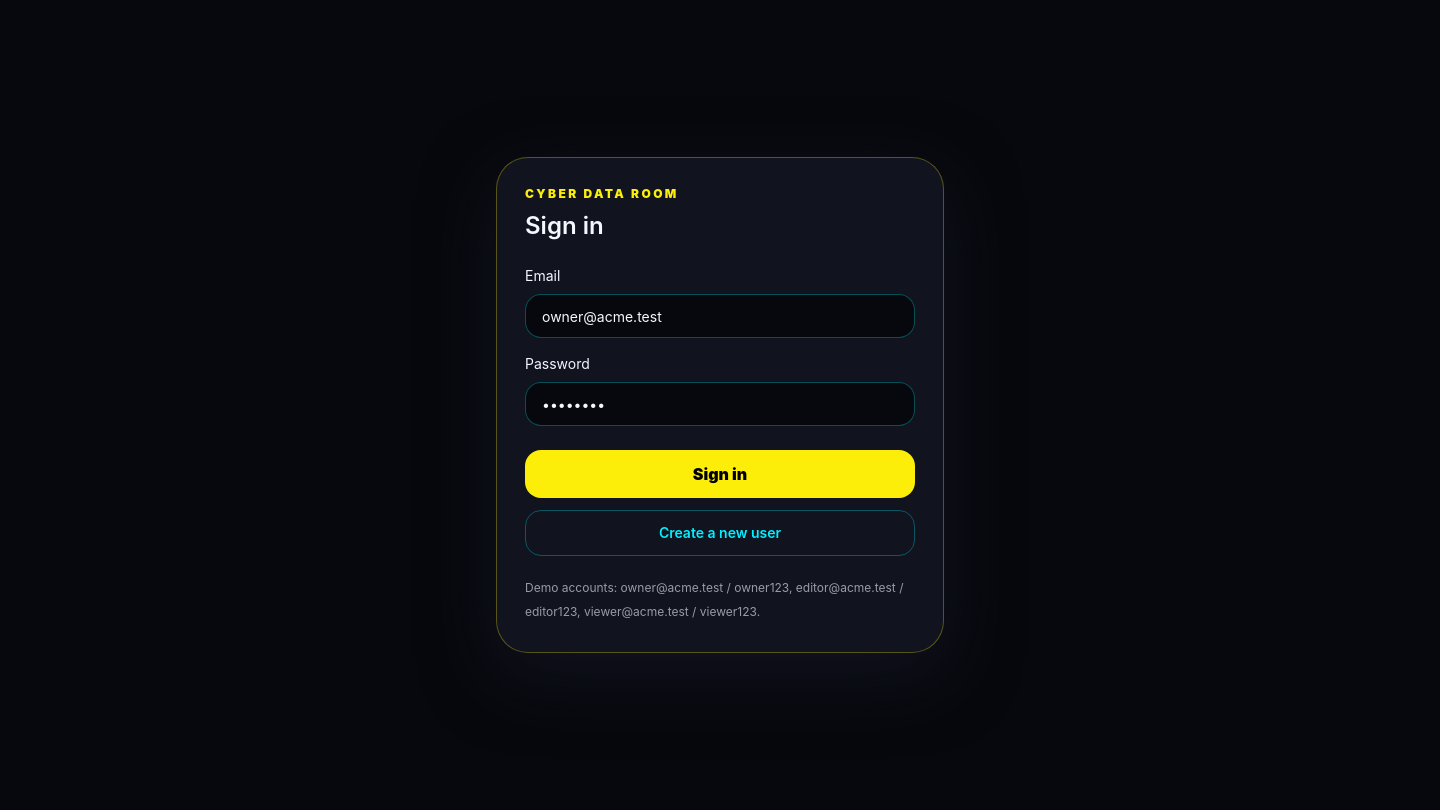
it: App › opens access management from the selected data room panel
Step 1. Click the button "Sign in" → (720, 474), box [525,450,915,498]
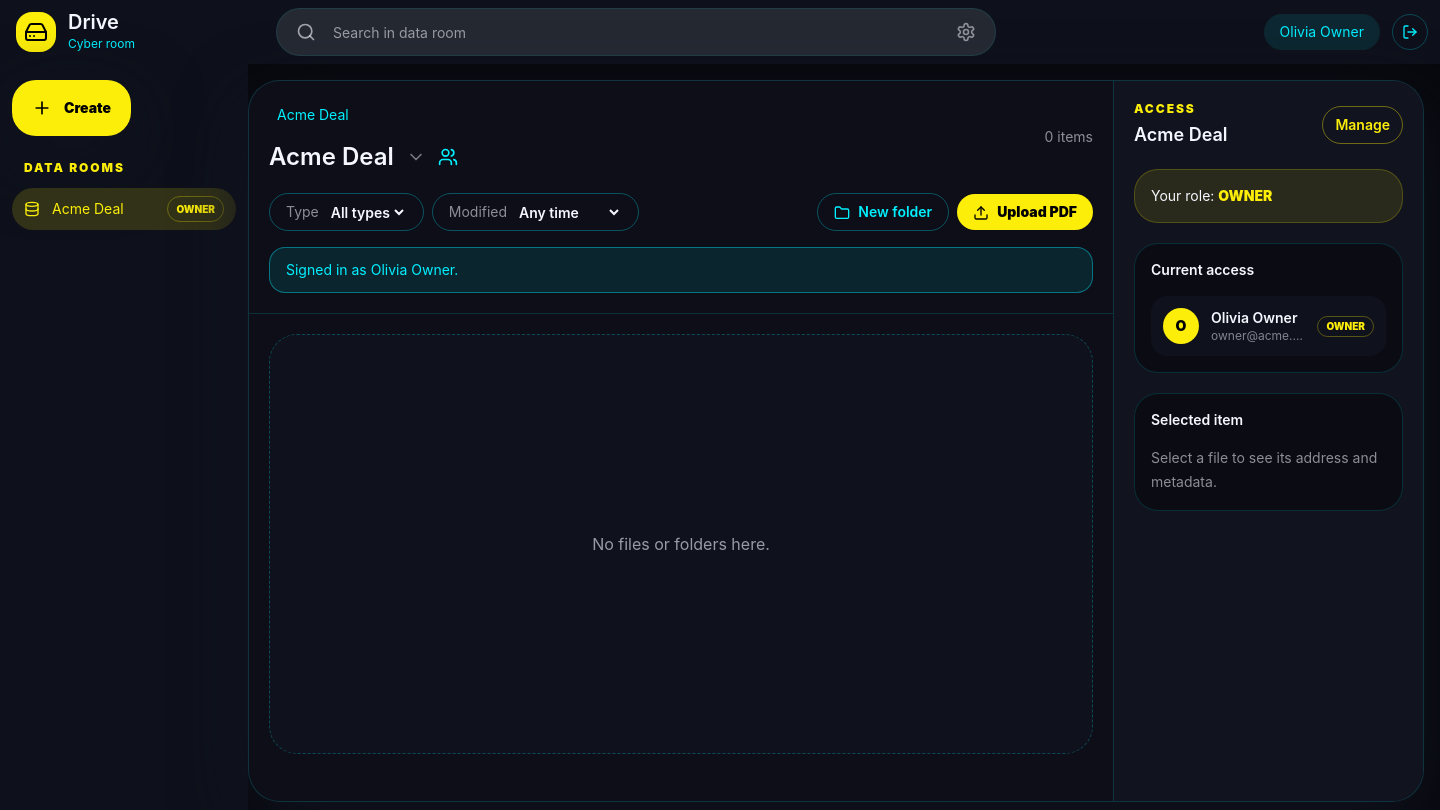
Step 2. Click the button "Manage" → (1363, 125), box [1322,106,1403,144]
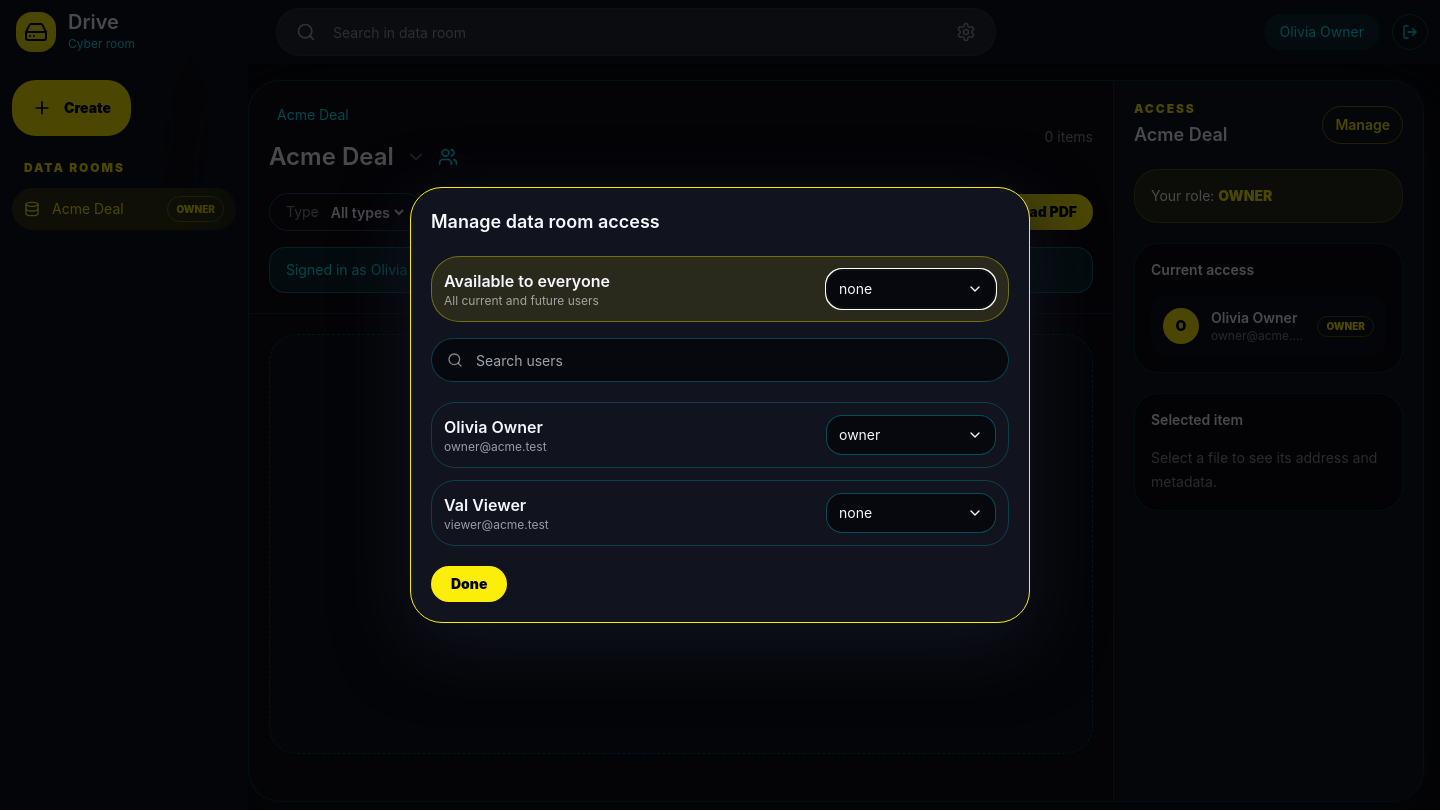
Check: the dialog "Manage data room access" is shown, box [410,187,1030,623]
Check: the text "Val Viewer" is shown, box [444,495,526,515]
